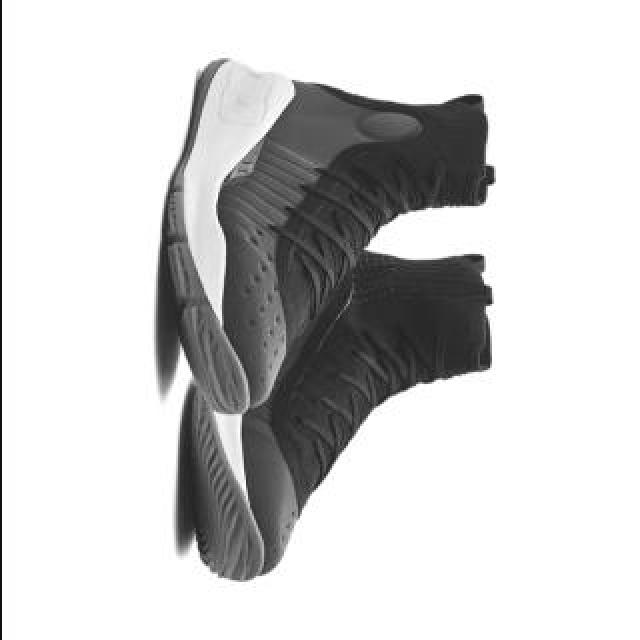shoe: (167, 57, 495, 417), (183, 234, 491, 582)
